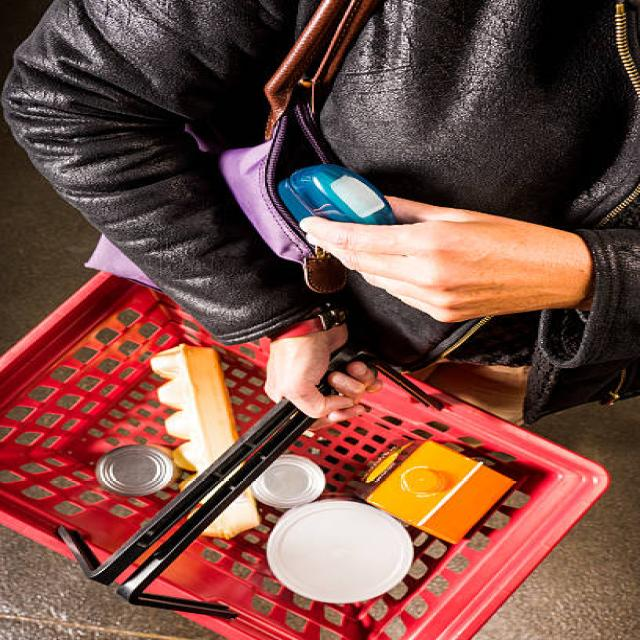article: (279, 164, 394, 224)
bags: (220, 101, 334, 264)
hands: (301, 197, 588, 320), (265, 324, 380, 427)
